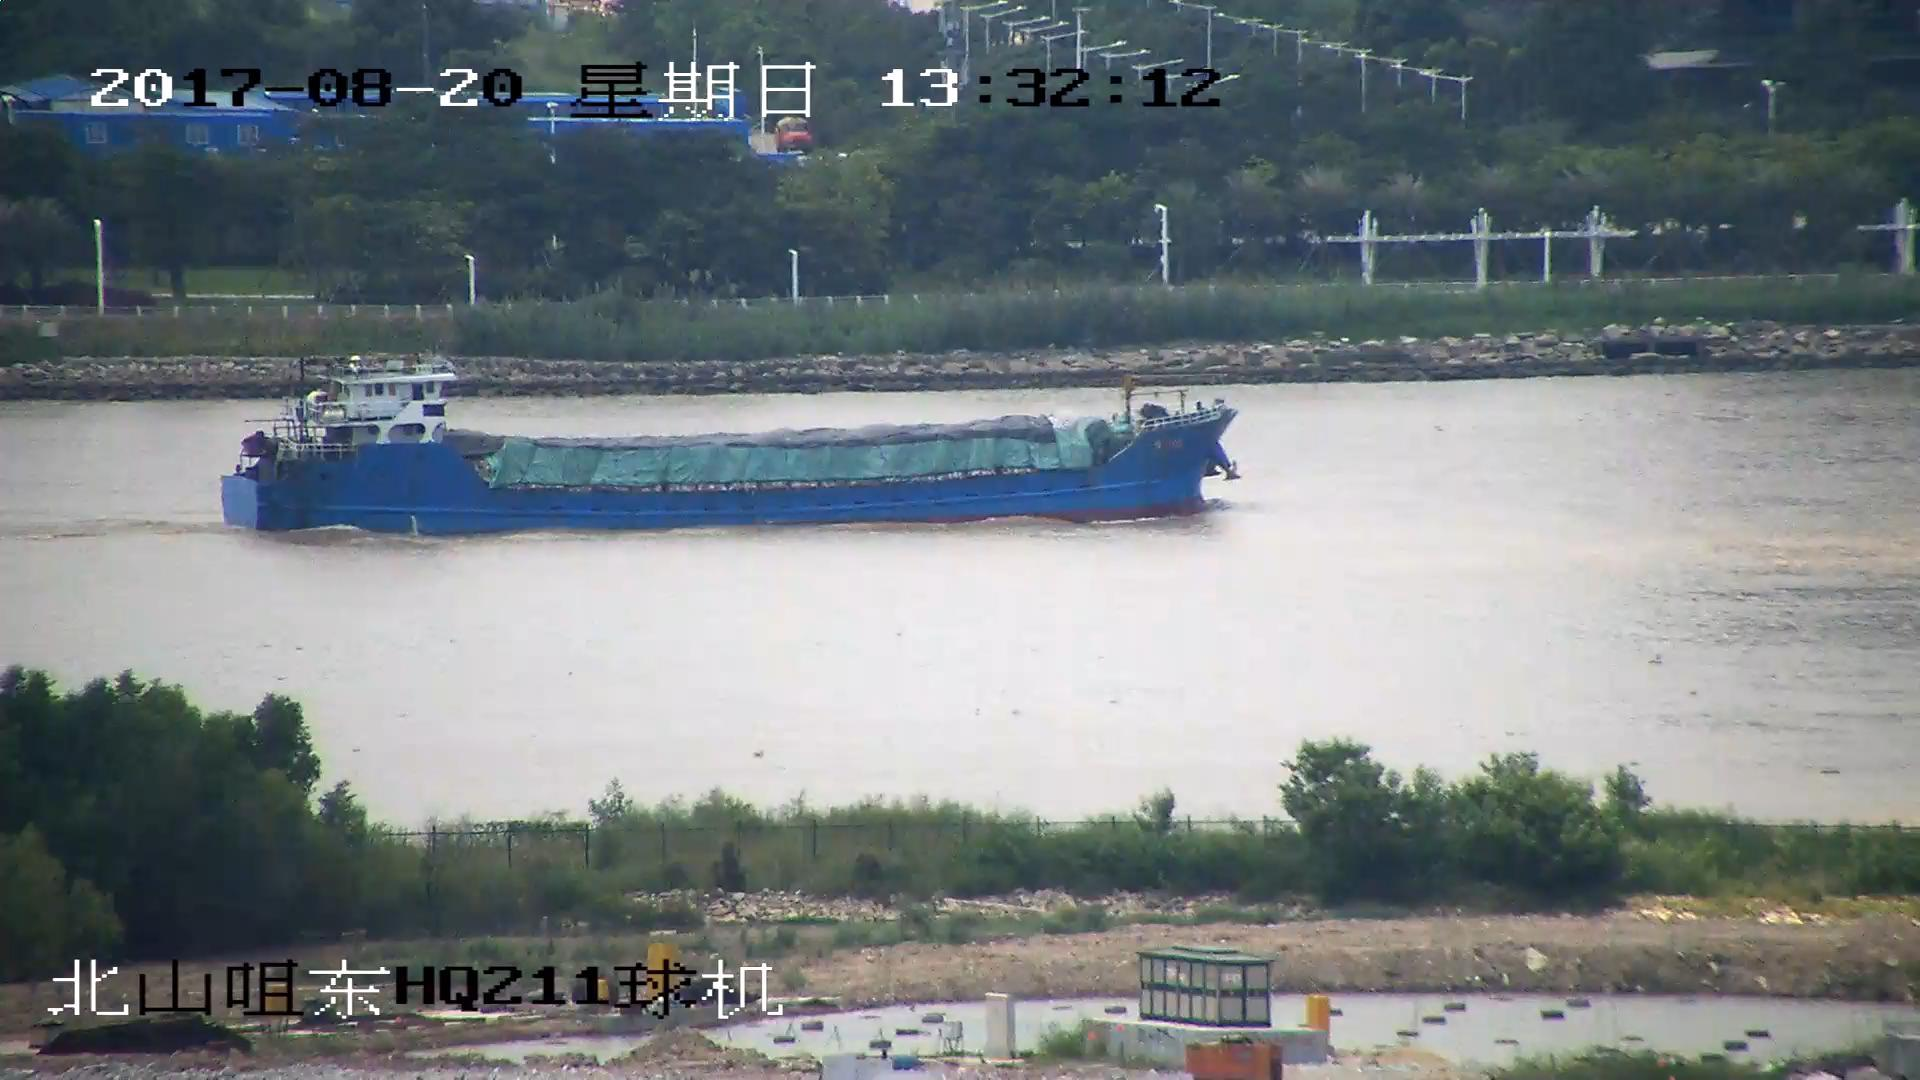Ship: (220, 359, 1247, 537)
